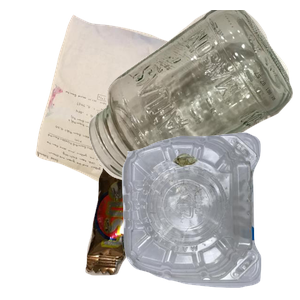glass: (86, 10, 300, 184)
paper: (33, 12, 214, 192)
plastic: (119, 130, 300, 300)
trash: (83, 160, 233, 300)
